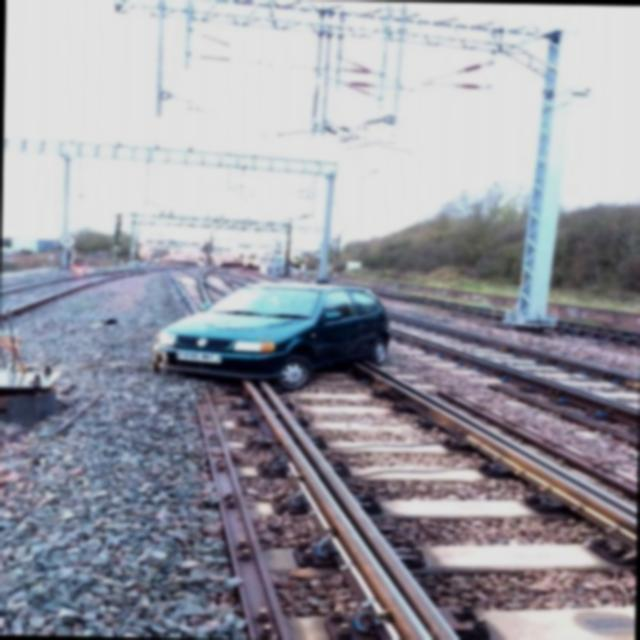danger: (145, 270, 400, 392)
rail: (244, 382, 458, 640), (360, 364, 638, 542), (397, 309, 640, 446), (0, 255, 242, 339)
